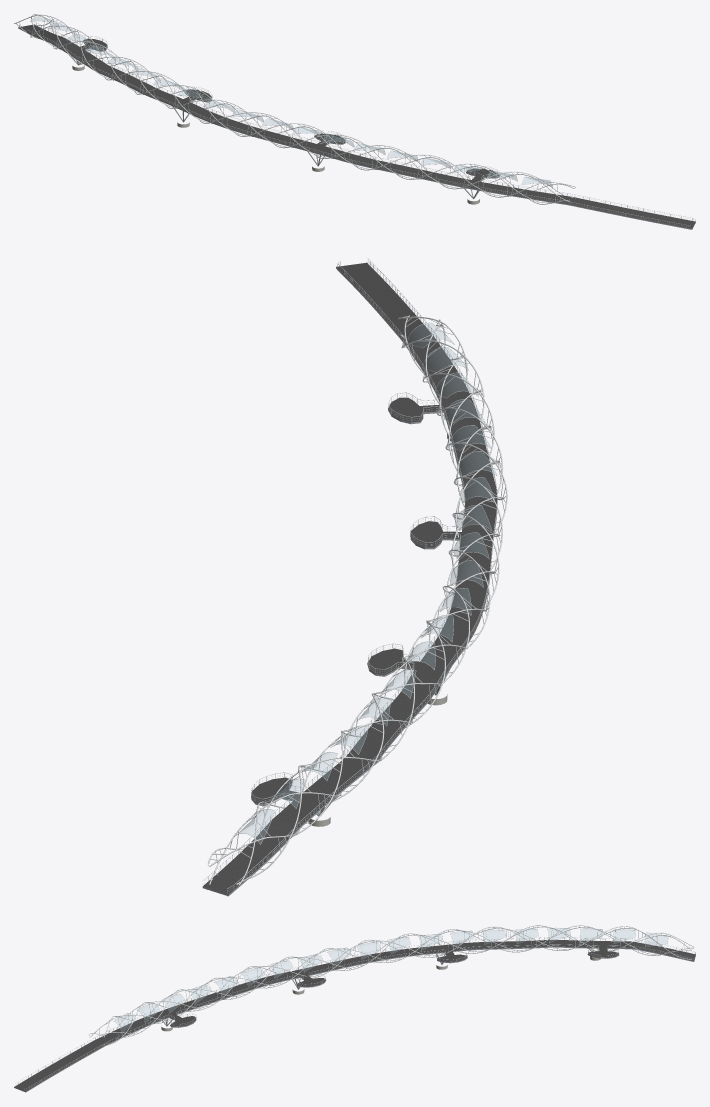
3 views of the same model, one above another, from view 1: azimuth 30°, elevation 25°; view 2: azimuth 150°, elevation 25°; view 3: azimuth 270°, elevation 25° (orthographic). The views are drawn at different scales.
Parts seen in each view (by area): view 1: Asphalt wearing course, Duplex stainless steel, Fritted canopy, Deck edge and crossbeams; view 2: Asphalt wearing course, Duplex stainless steel, Fritted canopy, Deck edge and crossbeams; view 3: Asphalt wearing course, Duplex stainless steel, Fritted canopy, Deck edge and crossbeams.
Part boxes in pixels (<box>): Asphalt wearing course: <box>18,24,695,228</box>; Duplex stainless steel: <box>14,14,693,227</box>; Fritted canopy: <box>32,16,550,186</box>; Deck edge and crossbeams: <box>18,23,695,229</box>; Asphalt wearing course: <box>203,262,497,894</box>; Duplex stainless steel: <box>203,258,507,892</box>; Fritted canopy: <box>238,323,496,843</box>; Deck edge and crossbeams: <box>202,261,497,896</box>; Asphalt wearing course: <box>14,940,695,1091</box>; Duplex stainless steel: <box>15,925,694,1088</box>; Fritted canopy: <box>114,928,668,1031</box>; Deck edge and crossbeams: <box>14,937,695,1092</box>.
Bounding box in the file's own units: 137 × 16.35 × 281.
Materials: 5 (2 with a texture image).
